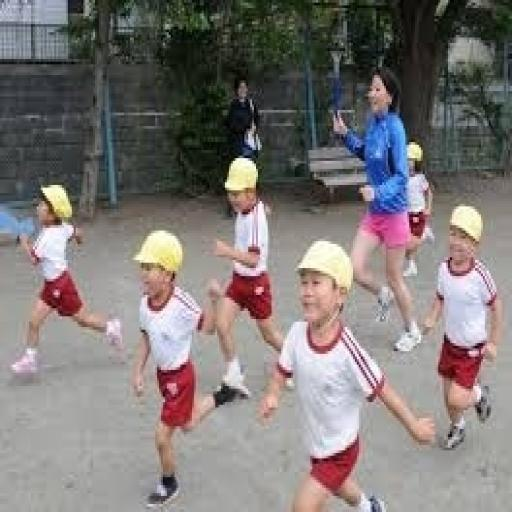running: (258, 236, 438, 509), (130, 225, 252, 509), (330, 64, 424, 356), (8, 180, 126, 380), (205, 153, 293, 399), (421, 201, 504, 453)
